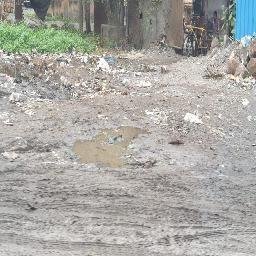water accumulation: (72, 125, 146, 167)
